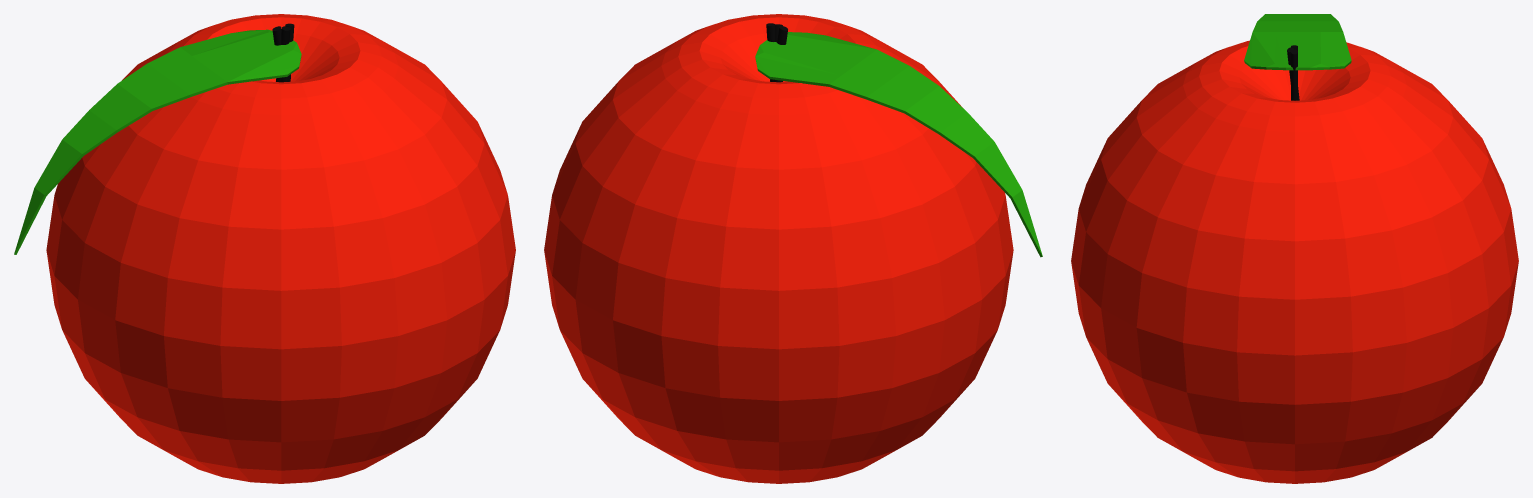
The model's file is Peach.obj.
The picture shows the model from 3 angles, left to right: view 1: azimuth 30°, elevation 25°; view 2: azimuth 150°, elevation 25°; view 3: azimuth 270°, elevation 25°; orthographic projection. The views are drawn at different scales.
Parts seen in each view (by area): view 1: Sphere001, Plane002; view 2: Sphere001, Plane002; view 3: Sphere001, Plane002.
Boxes of the visible parts, x1,y1,x2,y2 form: Sphere001: (46, 14, 515, 483); Plane002: (14, 29, 301, 254); Sphere001: (544, 14, 1013, 483); Plane002: (755, 32, 1042, 257); Sphere001: (1071, 40, 1518, 483); Plane002: (1244, 14, 1351, 70).
Bounding box in the file's own units: 1619686 × 1440540 × 1404649.
